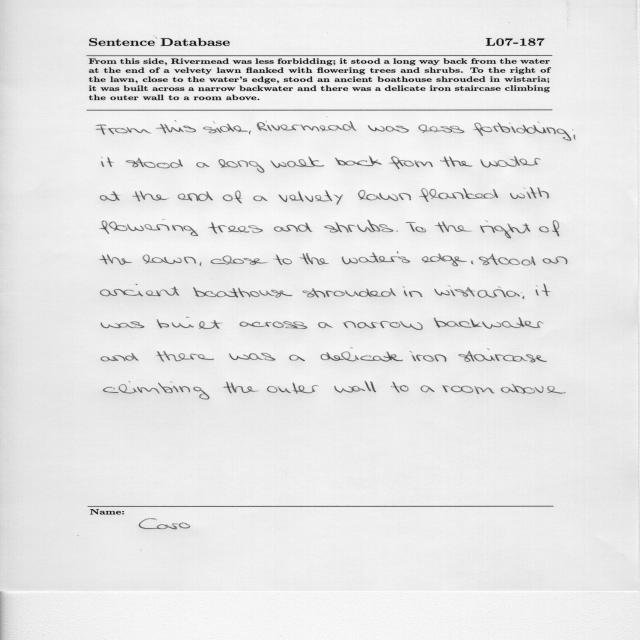word: (103, 382, 210, 400), (474, 122, 571, 141), (100, 220, 198, 236), (458, 348, 547, 363), (434, 317, 544, 329), (419, 188, 498, 202), (193, 287, 292, 298), (434, 286, 520, 298), (278, 190, 343, 205), (100, 284, 179, 296), (302, 288, 396, 298), (266, 121, 357, 131), (480, 221, 530, 239), (325, 220, 394, 233), (342, 252, 410, 265), (321, 352, 403, 362), (157, 317, 223, 329), (480, 156, 541, 168), (343, 321, 423, 330), (479, 254, 536, 266), (208, 222, 263, 234), (219, 159, 265, 173), (156, 351, 214, 362), (271, 156, 324, 168), (203, 122, 251, 135), (501, 384, 563, 394), (422, 254, 467, 267), (358, 190, 411, 201), (389, 156, 433, 169), (267, 383, 319, 394), (126, 158, 183, 168), (211, 255, 268, 265), (96, 125, 152, 135), (240, 321, 307, 329), (143, 255, 196, 265), (156, 121, 196, 134), (334, 381, 376, 393), (442, 385, 495, 394), (335, 156, 381, 166), (435, 221, 472, 233), (510, 188, 549, 199), (409, 351, 447, 362), (419, 124, 465, 133), (132, 191, 169, 202), (224, 382, 259, 393), (274, 223, 312, 233), (229, 353, 275, 361), (440, 156, 473, 167), (100, 254, 133, 265), (178, 191, 213, 201), (300, 253, 329, 265), (368, 125, 409, 133), (539, 220, 559, 236), (101, 322, 145, 329), (101, 353, 139, 361), (222, 191, 242, 204), (403, 286, 423, 297), (100, 191, 120, 201), (406, 222, 426, 232), (543, 256, 568, 264), (391, 382, 409, 393), (273, 255, 292, 265), (536, 284, 551, 296), (102, 157, 114, 167), (257, 122, 268, 131), (421, 386, 435, 393), (289, 355, 305, 361), (318, 322, 333, 328), (254, 195, 268, 201), (197, 163, 210, 168), (572, 130, 576, 140), (521, 293, 524, 299), (471, 261, 474, 264), (200, 262, 202, 266), (396, 230, 398, 232), (563, 392, 566, 393)
